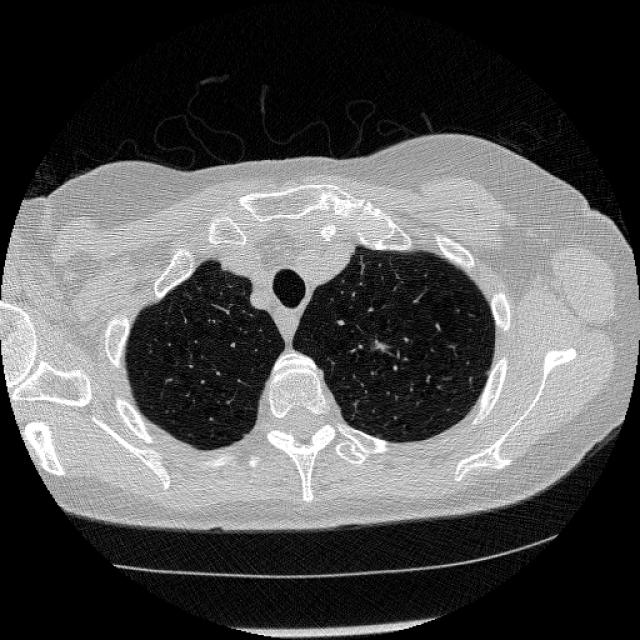nodule: (370, 331, 398, 359)
